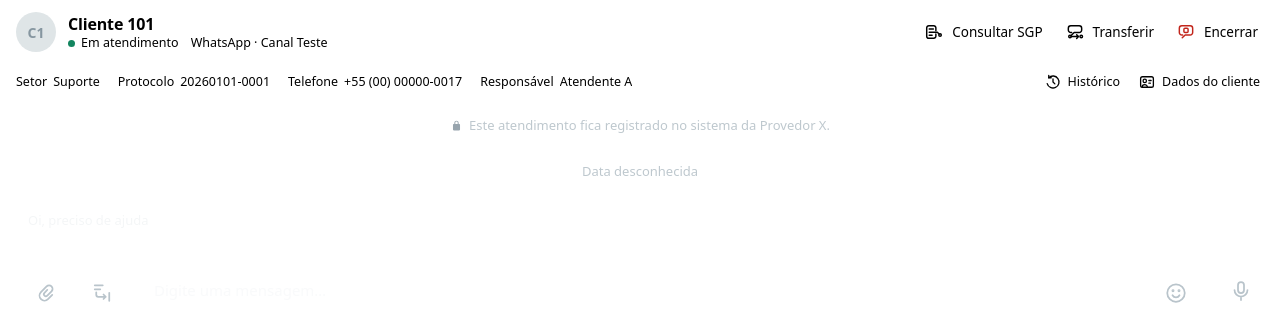
it: cabeçalho da mesa › Consultar SGP abre e fecha o painel
Click the button "Consultar SGP".
click(983, 32)  # box [914, 12, 1053, 52]
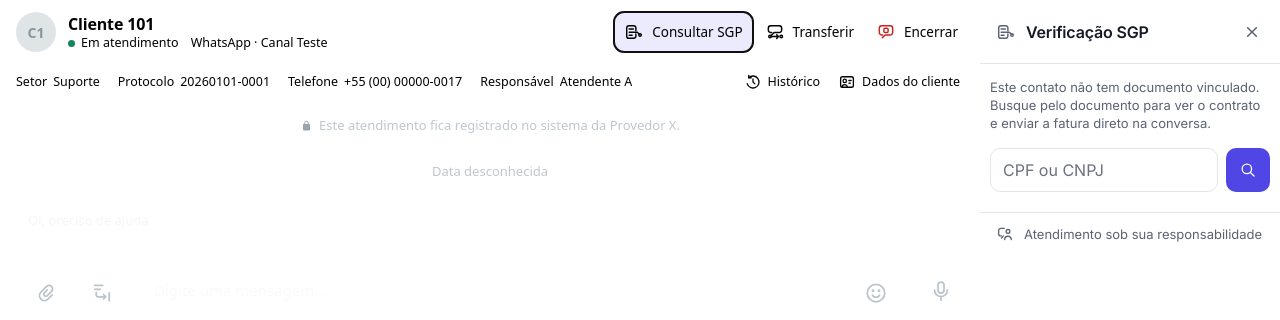
Result: the button "Consultar SGP" is expanded
Result: the element with id "conv-painel-sgp" is shown at [980, 0, 1279, 255]
Click the button "Consultar SGP".
click(683, 32)  # box [614, 12, 753, 52]
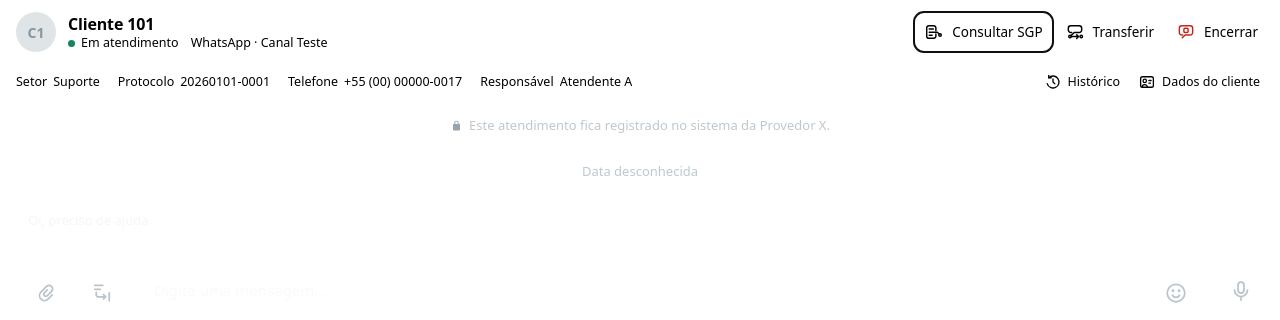
Result: the element with id "conv-painel-sgp" is gone
